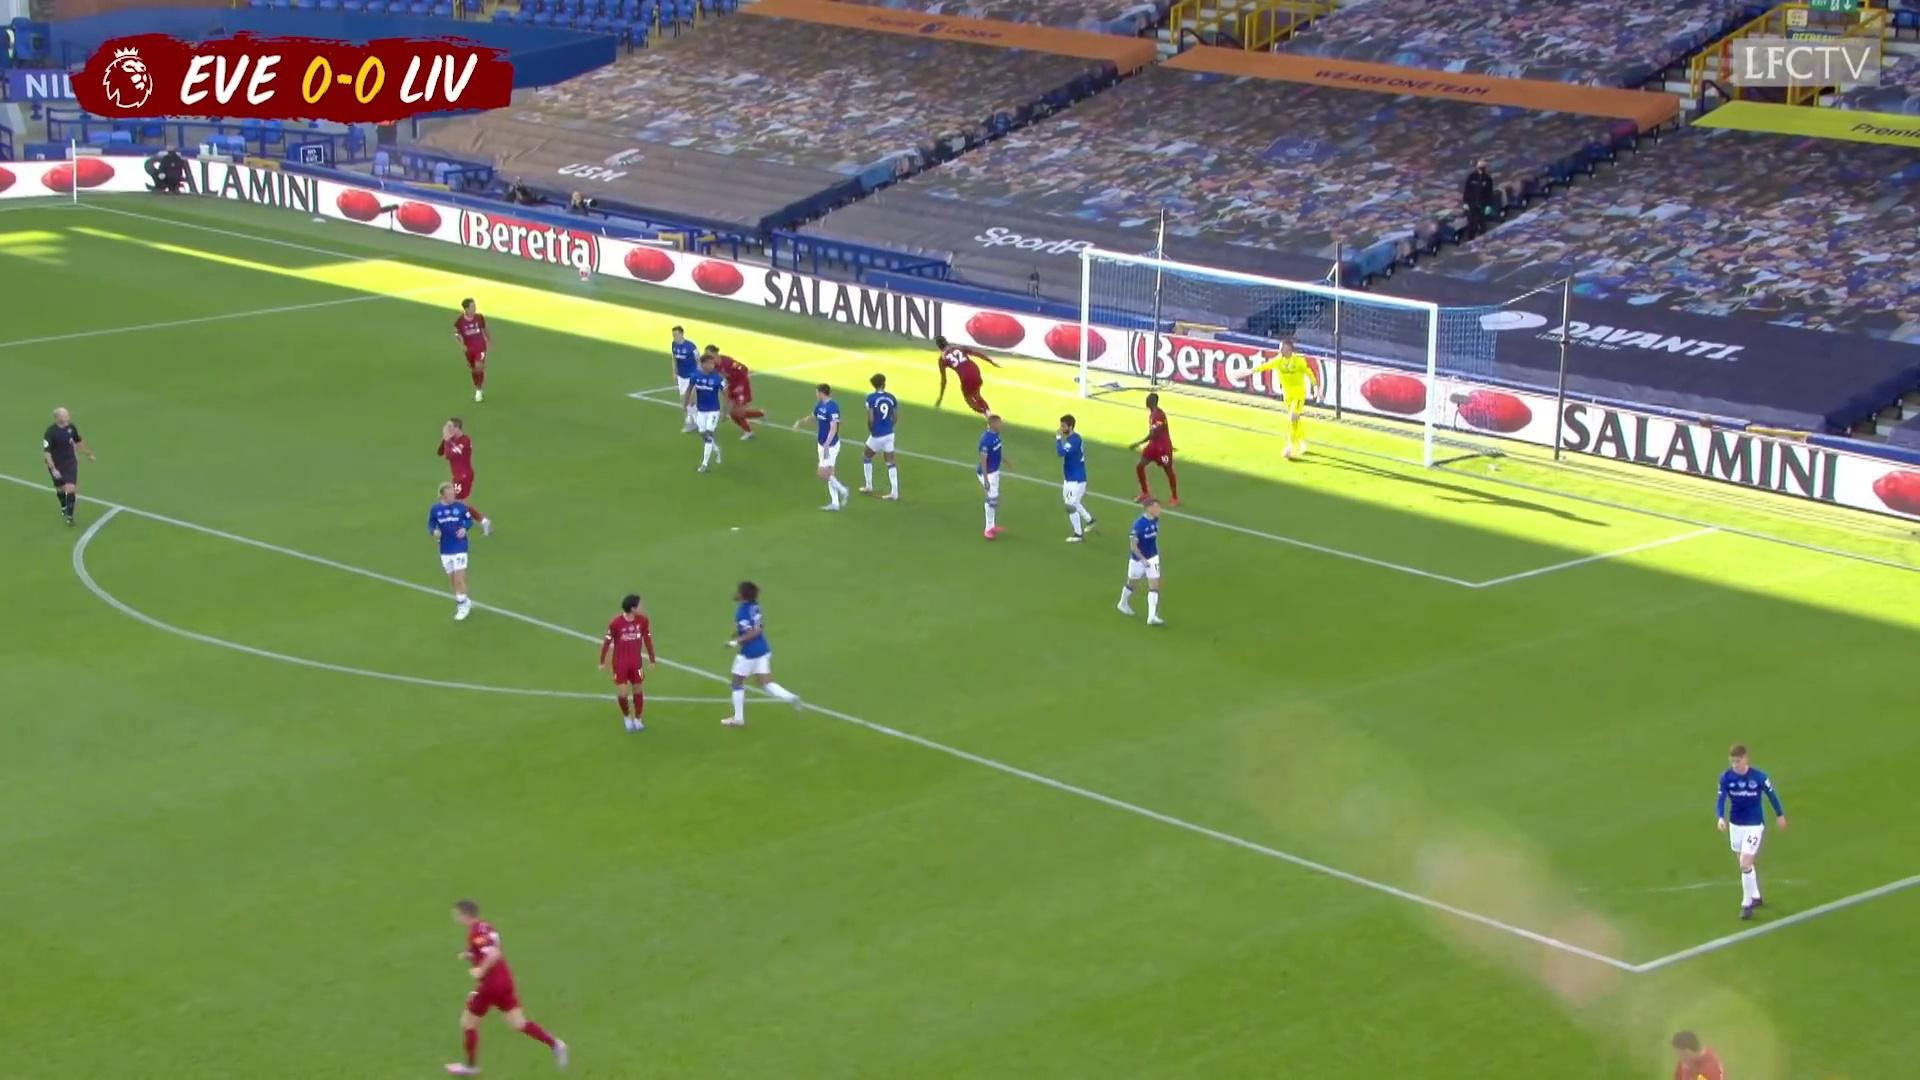ball: (575, 261, 595, 283)
goalkeeper: (1233, 337, 1321, 463)
player: (441, 888, 571, 1077), (1703, 739, 1785, 923), (715, 578, 806, 730), (595, 591, 661, 738), (1111, 499, 1175, 626), (928, 334, 1005, 438), (430, 415, 490, 547), (794, 379, 850, 512), (425, 480, 477, 623), (1132, 389, 1188, 515), (704, 342, 769, 442), (1052, 410, 1100, 543), (680, 349, 730, 474), (858, 371, 902, 505), (449, 295, 498, 406), (669, 325, 717, 436), (974, 411, 1015, 540), (1660, 1022, 1734, 1076)
referee: (40, 400, 97, 531)
